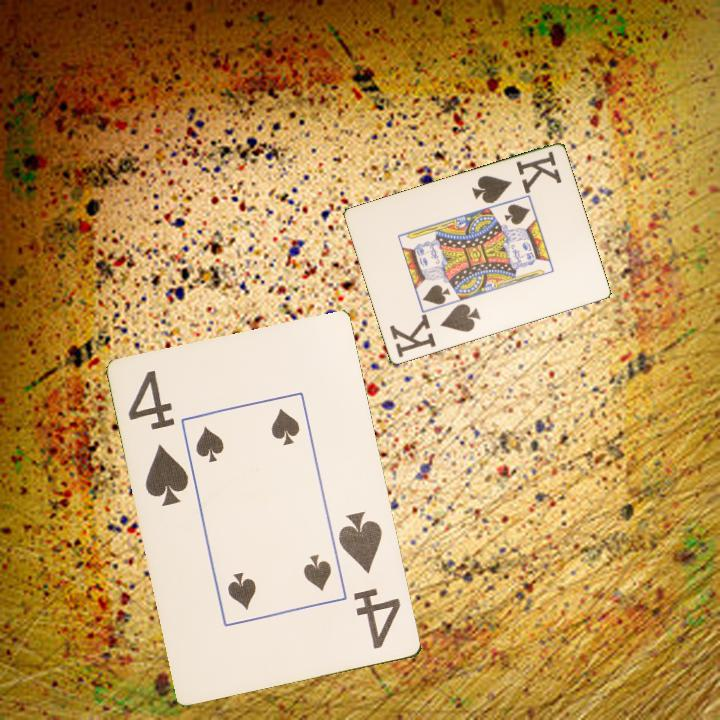4s: (335, 508, 405, 652), (124, 367, 192, 510)
Ks: (386, 300, 484, 361), (468, 148, 565, 207)
